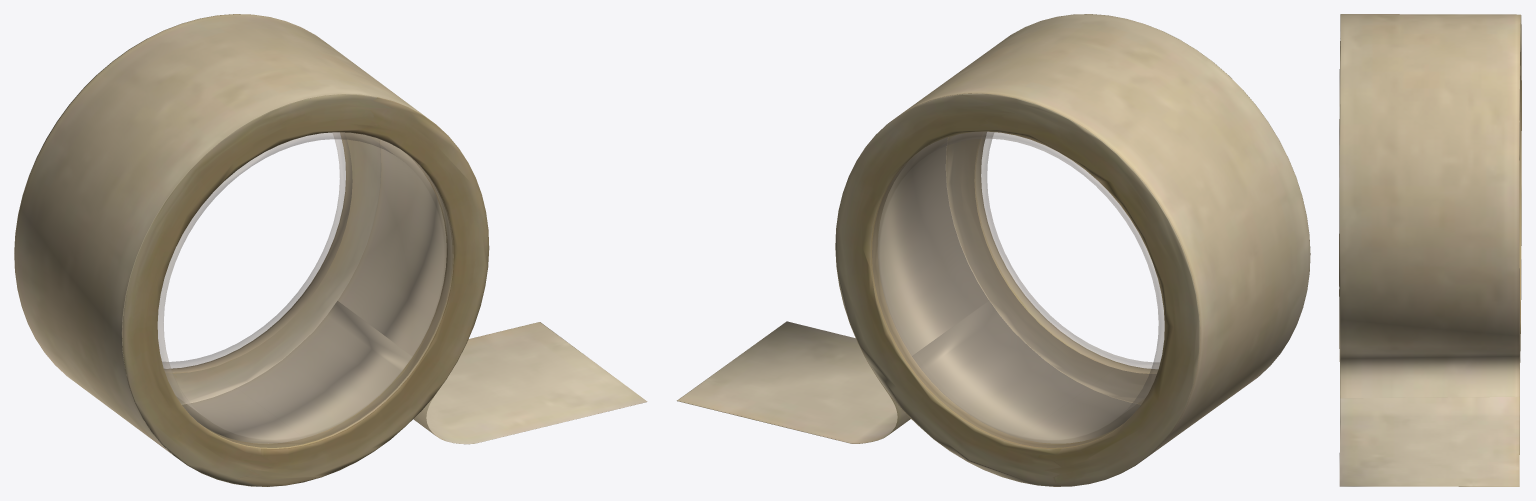
File: react-tape-TKb4TFS4.glb
The picture shows the model from 3 angles, left to right: view 1: azimuth 30°, elevation 25°; view 2: azimuth 150°, elevation 25°; view 3: azimuth 270°, elevation 25°; orthographic projection. The views are drawn at different scales.
Parts seen in each view (by area): view 1: Packing_Tape_Clear_no_Dispenser_01; view 2: Packing_Tape_Clear_no_Dispenser_01; view 3: Packing_Tape_Clear_no_Dispenser_01.
Boxes of the visible parts, x1,y1,x2,y2 form: Packing_Tape_Clear_no_Dispenser_01: (14, 14, 647, 486); Packing_Tape_Clear_no_Dispenser_01: (677, 14, 1310, 486); Packing_Tape_Clear_no_Dispenser_01: (1339, 14, 1521, 486).
Bounding box in the file's own units: 0.1717 × 0.1204 × 0.0626.
2 materials, 2 textured.
